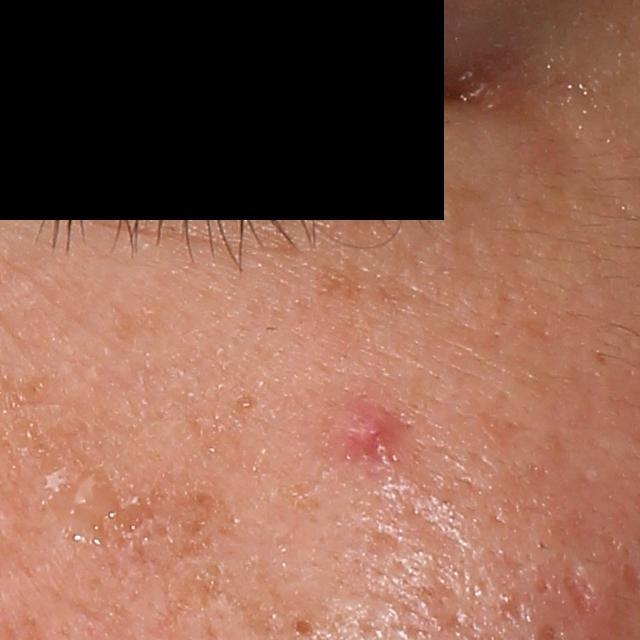atrophic_scar: (179, 486, 243, 561), (106, 487, 165, 541), (561, 557, 600, 616)
melasma: (545, 137, 592, 198), (311, 261, 366, 310), (439, 181, 489, 206)
papule: (324, 397, 420, 474)
